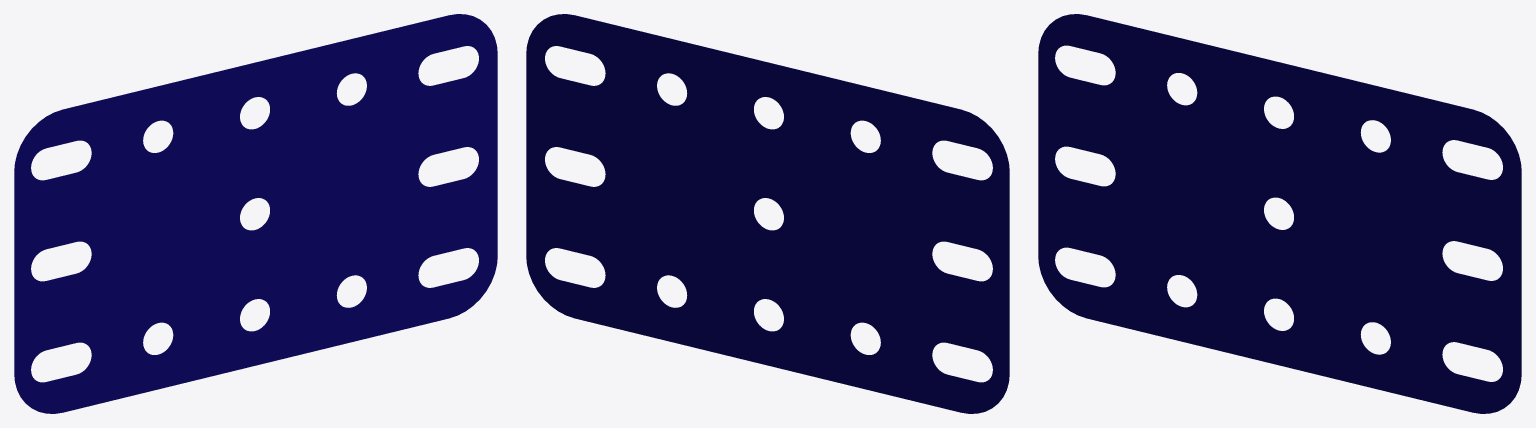
Rendered from TamPhang_3x5_NhuaMem_TrongSuot.glb.
The picture shows the model from 3 angles, left to right: view 1: azimuth 30°, elevation 25°; view 2: azimuth 150°, elevation 25°; view 3: azimuth 330°, elevation 25°; orthographic projection.
Visible parts, largest first — view 1: defaultobject; view 2: defaultobject; view 3: defaultobject.
Part boxes in pixels (x1,y1,x2,y2): defaultobject: (14, 14, 497, 413); defaultobject: (526, 14, 1009, 413); defaultobject: (1038, 14, 1521, 413).
Size of the model in its own units: 158 by 94.87 by 0.126.
